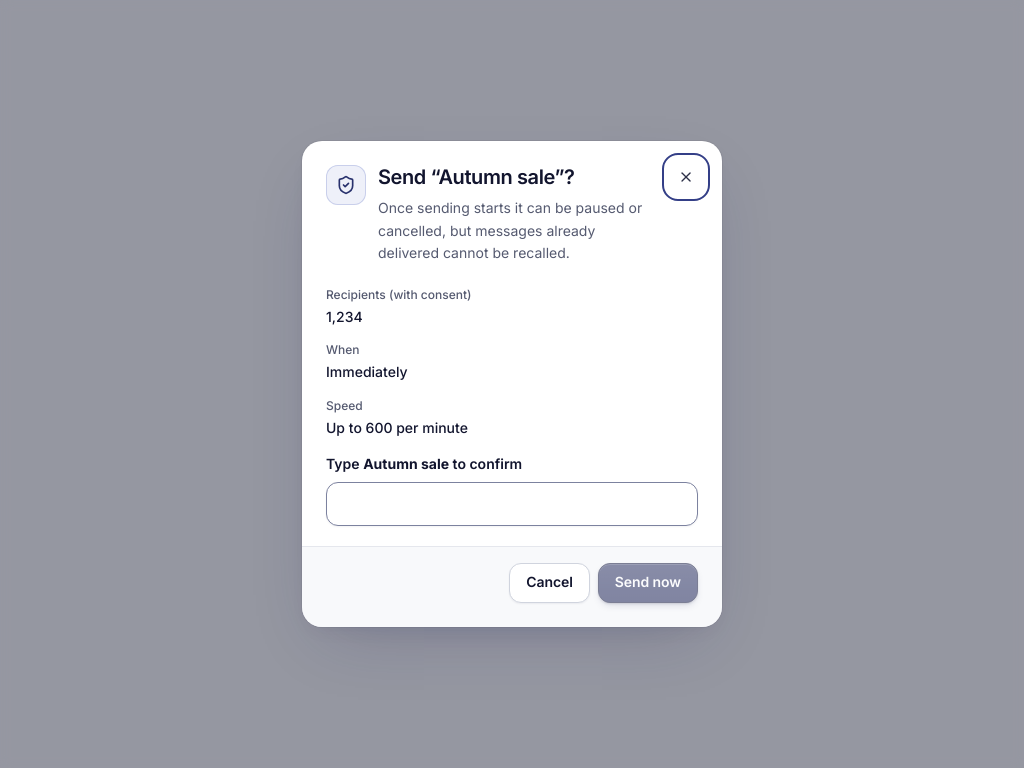
SendConfirmDialog › shows the server refusal and keeps the dialog open
The image size is (1024, 768).
Type "Autumn sale" into the field labelled "Type Autumn sale to confirm" at (512, 504), box [326,482,698,526]
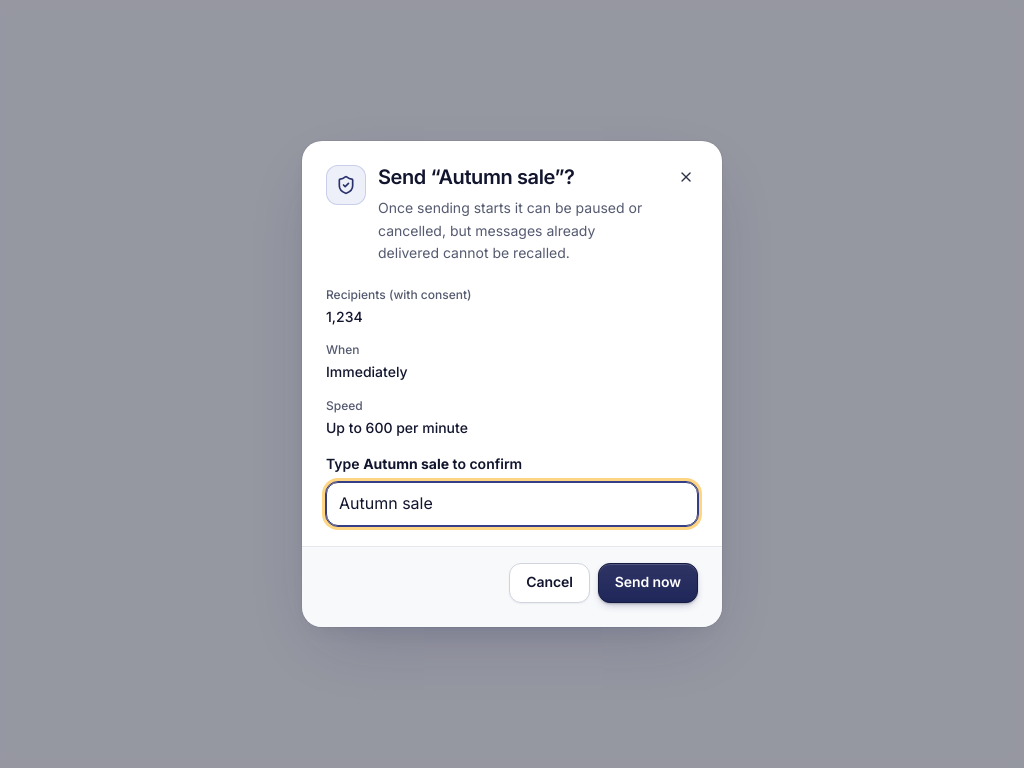
Click the button "Send now" at (648, 582), box [598,562,698,602]
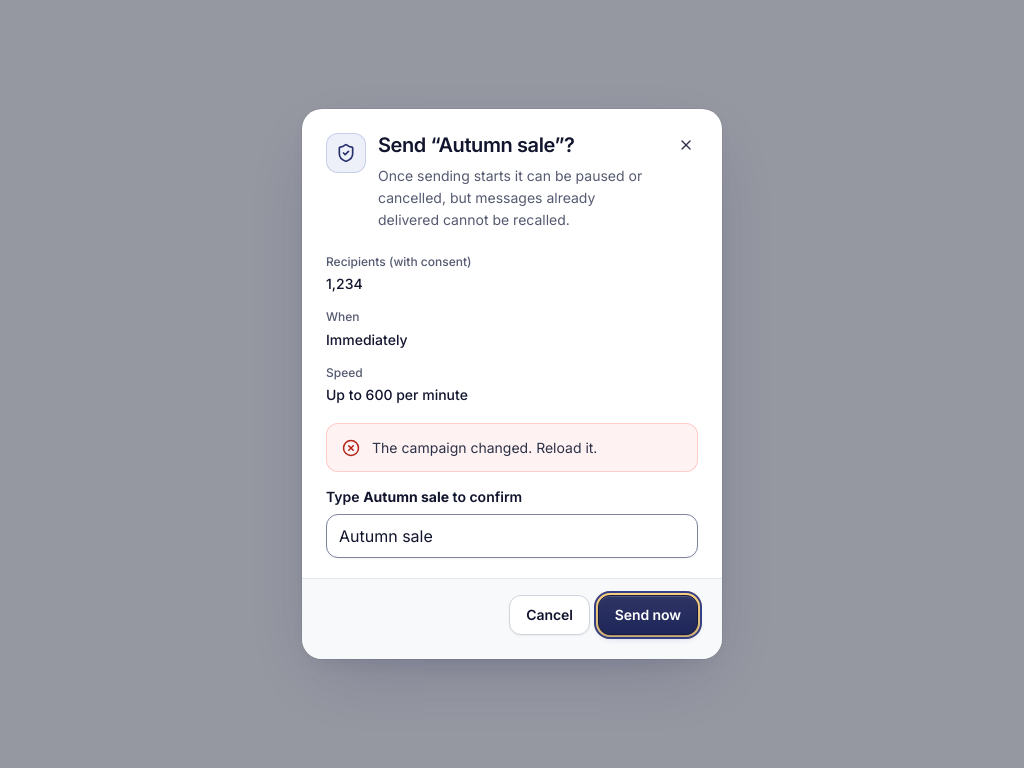
Result: the text "The campaign changed. Reload it." is shown at [372,438,597,456]
